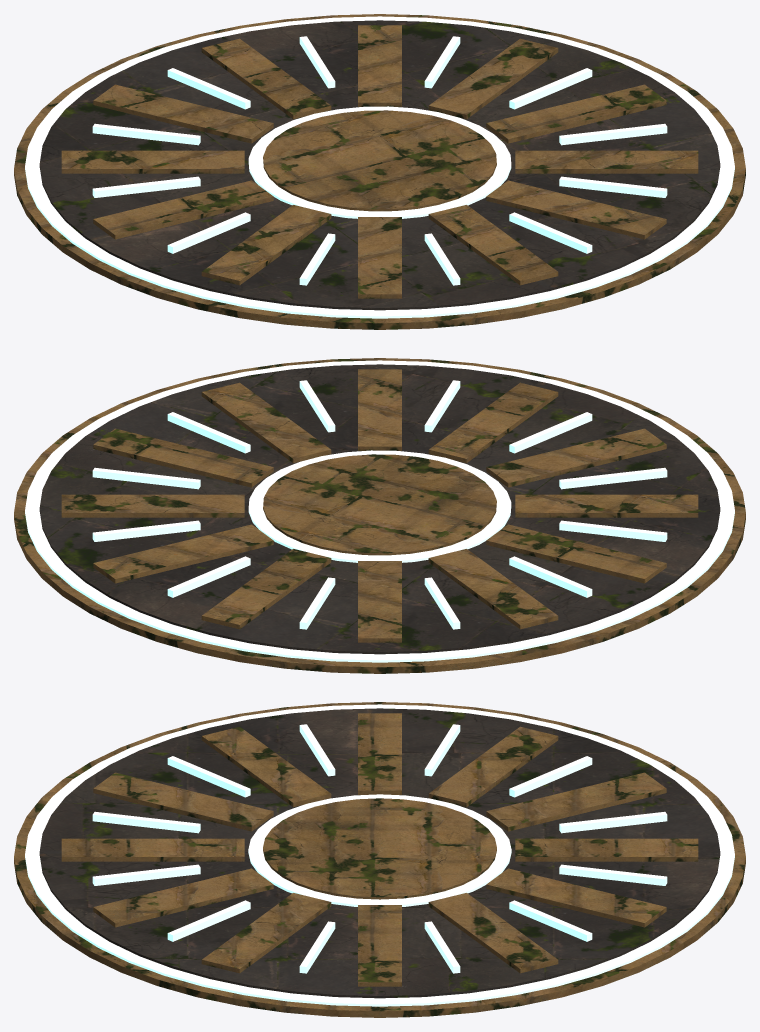
File: Seal_Shrine.fbx
3 renders of one model, top to bottom at view 1: azimuth 30°, elevation 25°; view 2: azimuth 150°, elevation 25°; view 3: azimuth 270°, elevation 25°, orthographic.
Visible parts, largest first — view 1: Seal_Shrine; view 2: Seal_Shrine; view 3: Seal_Shrine.
Boxes of the visible parts, box(x1,y1,x2,y2) form: Seal_Shrine: box(14, 14, 745, 329); Seal_Shrine: box(14, 358, 745, 673); Seal_Shrine: box(14, 702, 745, 1017).
Bounding box in the file's own units: 6 × 0.16 × 6.
